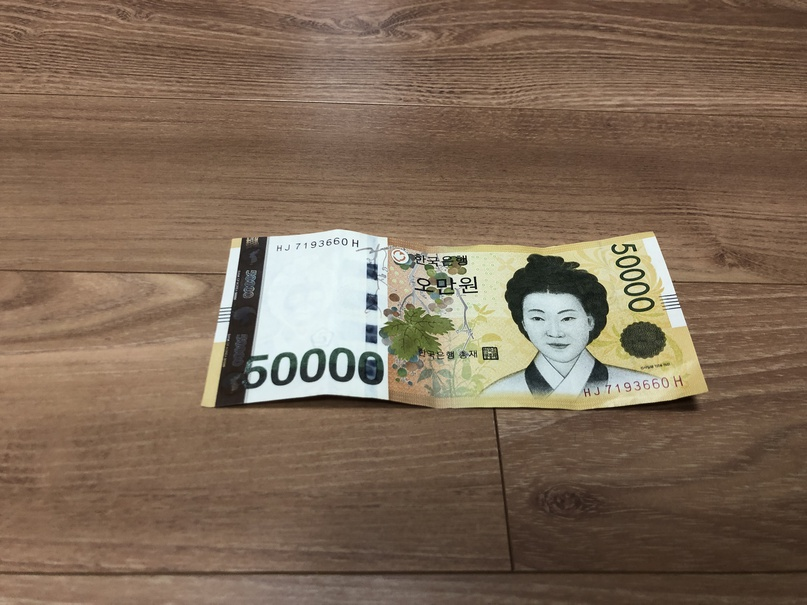50000won: (201, 230, 708, 411)
